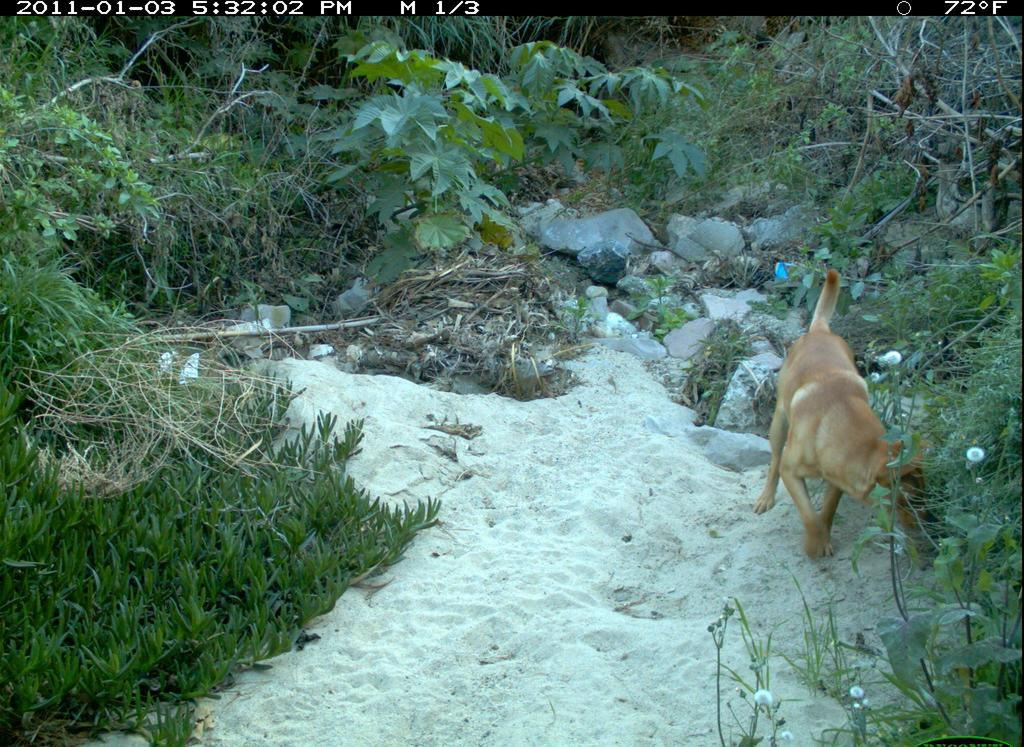dog: (744, 262, 952, 578)
